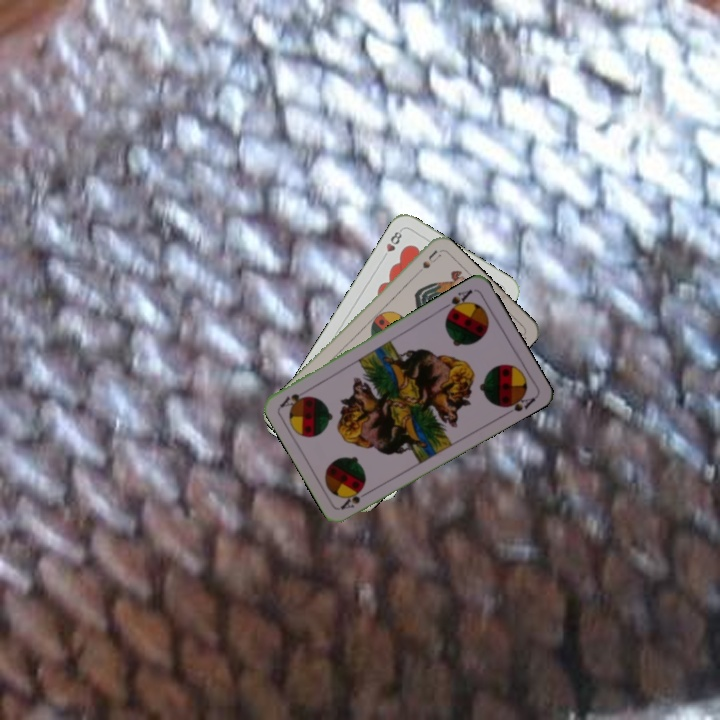H8: (378, 226, 405, 262)
SA: (439, 285, 475, 317), (337, 483, 374, 512)
SU: (409, 246, 442, 280)
